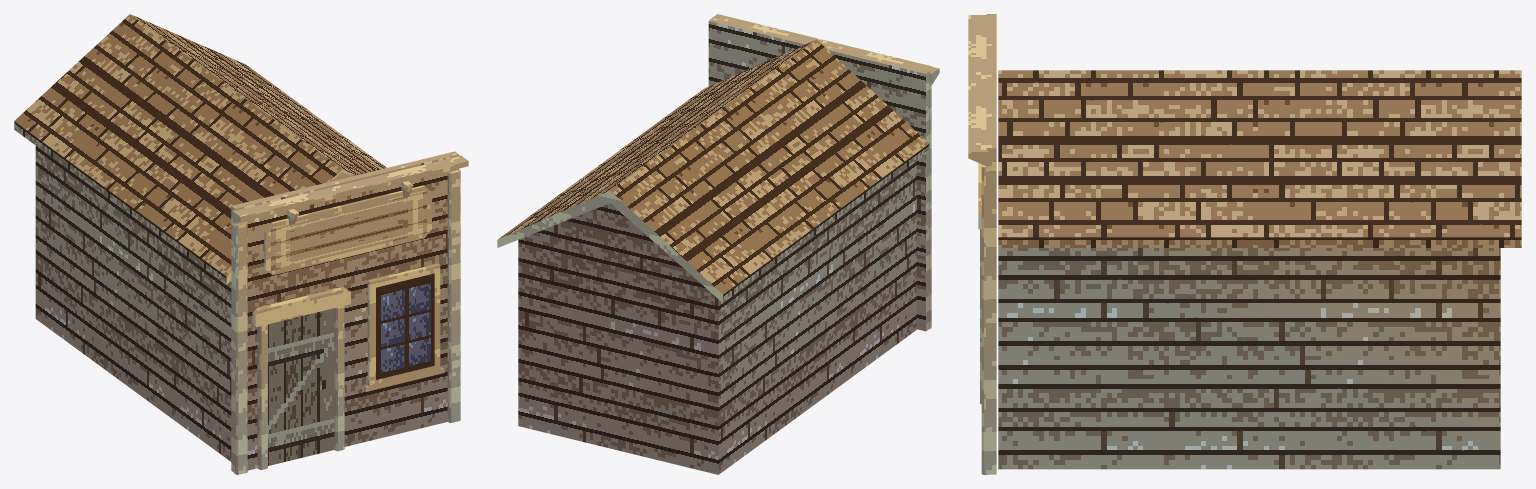
Rendered from wtown.facade__a_square.glb.
3 renders of one model, left to right at view 1: azimuth 30°, elevation 25°; view 2: azimuth 150°, elevation 25°; view 3: azimuth 270°, elevation 25°, orthographic. The views are drawn at different scales.
Parts seen in each view (by area): view 1: kit_roof, kit_body, kit_front, kit_card_panes, kit_trim, kit_windows; view 2: kit_body, kit_roof, kit_front, kit_trim; view 3: kit_body, kit_roof, kit_trim, kit_front.
Boxes of the visible parts, left/top/right/bottom form: kit_roof: left=14, top=14, right=386, bottom=284; kit_body: left=35, top=146, right=351, bottom=461; kit_front: left=231, top=151, right=458, bottom=472; kit_card_panes: left=268, top=191, right=434, bottom=465; kit_trim: left=232, top=155, right=468, bottom=474; kit_windows: left=364, top=263, right=443, bottom=391; kit_body: left=518, top=161, right=916, bottom=474; kit_roof: left=497, top=39, right=929, bottom=302; kit_front: left=708, top=18, right=929, bottom=331; kit_trim: left=710, top=14, right=939, bottom=328; kit_body: left=998, top=248, right=1500, bottom=469; kit_roof: left=998, top=70, right=1521, bottom=247; kit_trim: left=968, top=15, right=988, bottom=474; kit_front: left=986, top=14, right=996, bottom=474.
Size of the model in its own units: 3.94 by 4.44 by 6.61.
6 materials, 6 textured.
